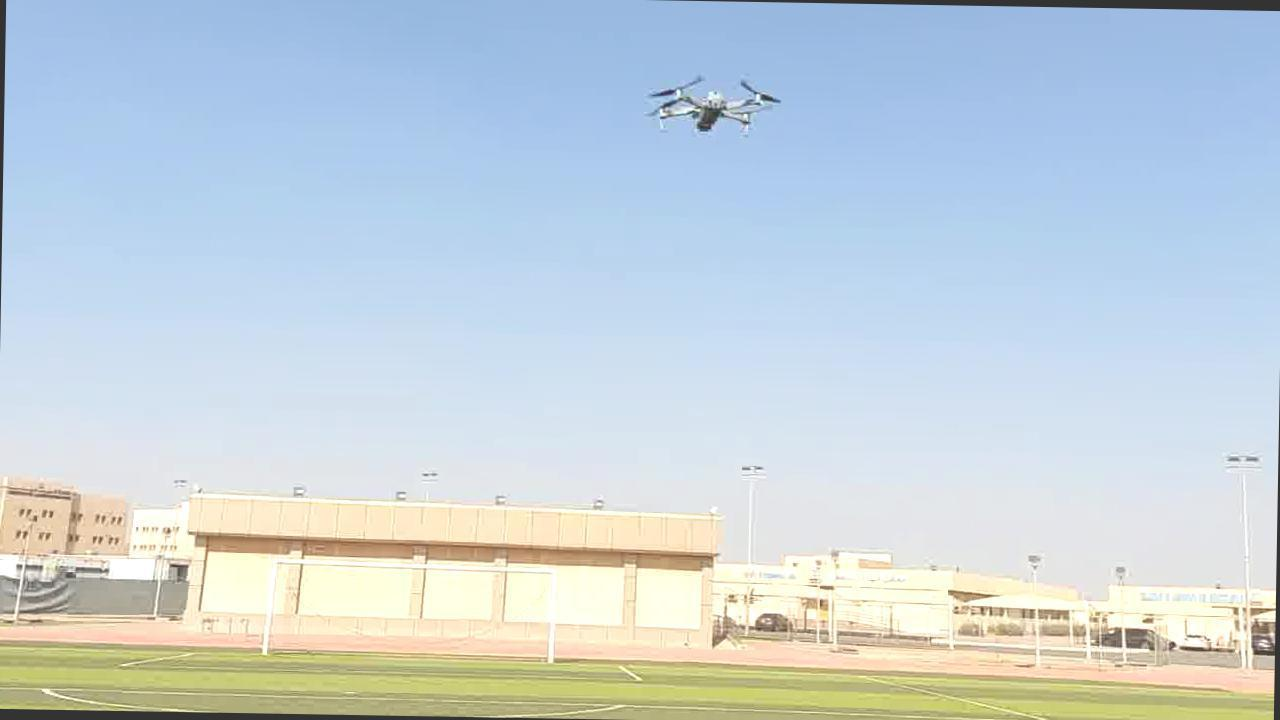drone: (641, 72, 789, 134)
